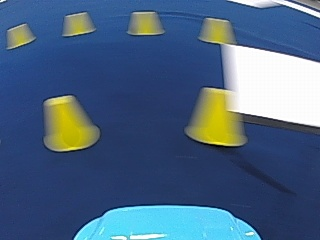cone: (185, 86, 244, 146), (41, 95, 98, 151), (199, 17, 235, 44), (128, 11, 163, 36), (63, 11, 94, 36), (7, 22, 34, 48)
